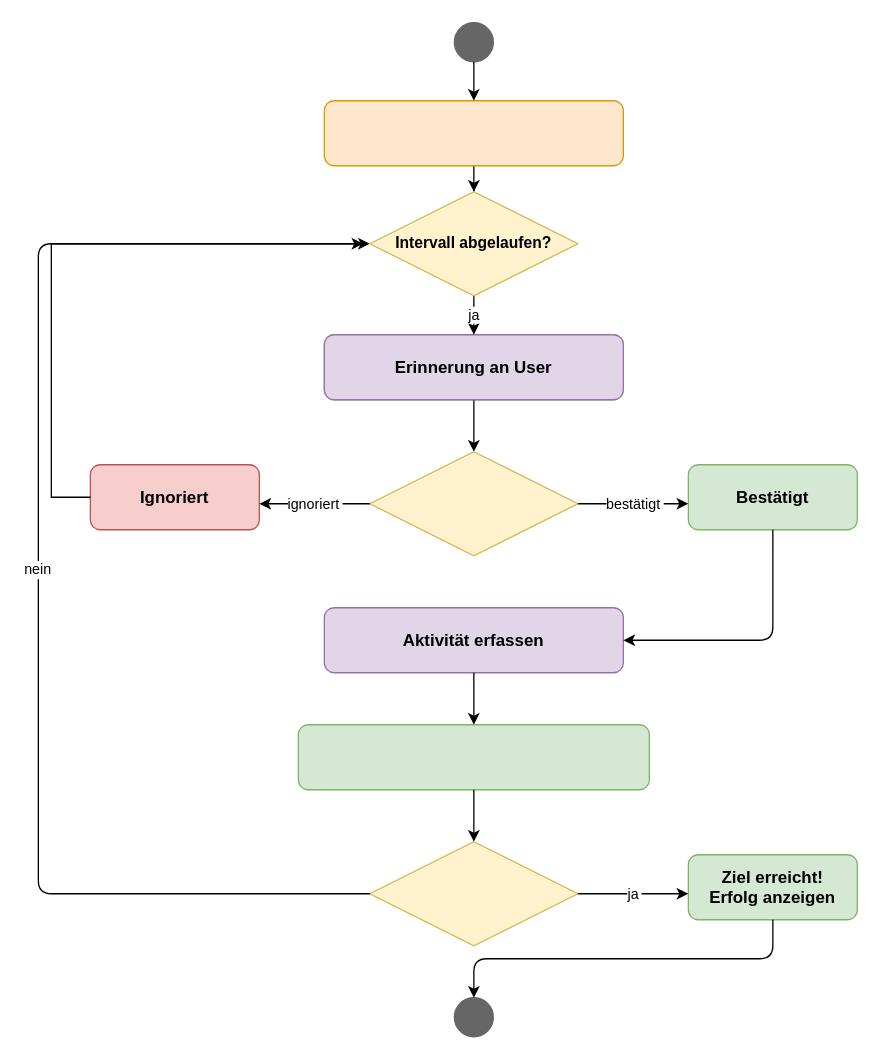
Some shapes in this 880 by 1060 pixel diagram are drawn without their labels. The box of each missing label's shape, as (x1, y1, x2, y2) in pixels:
Intervall konfigurieren & Tagesziel festlegen: (323, 99, 623, 166)
Nutzer reagiert?: (369, 450, 578, 556)
Tagesfortschritt aktualisieren: (297, 723, 649, 790)
Tagesziel erreicht?: (369, 840, 578, 946)
